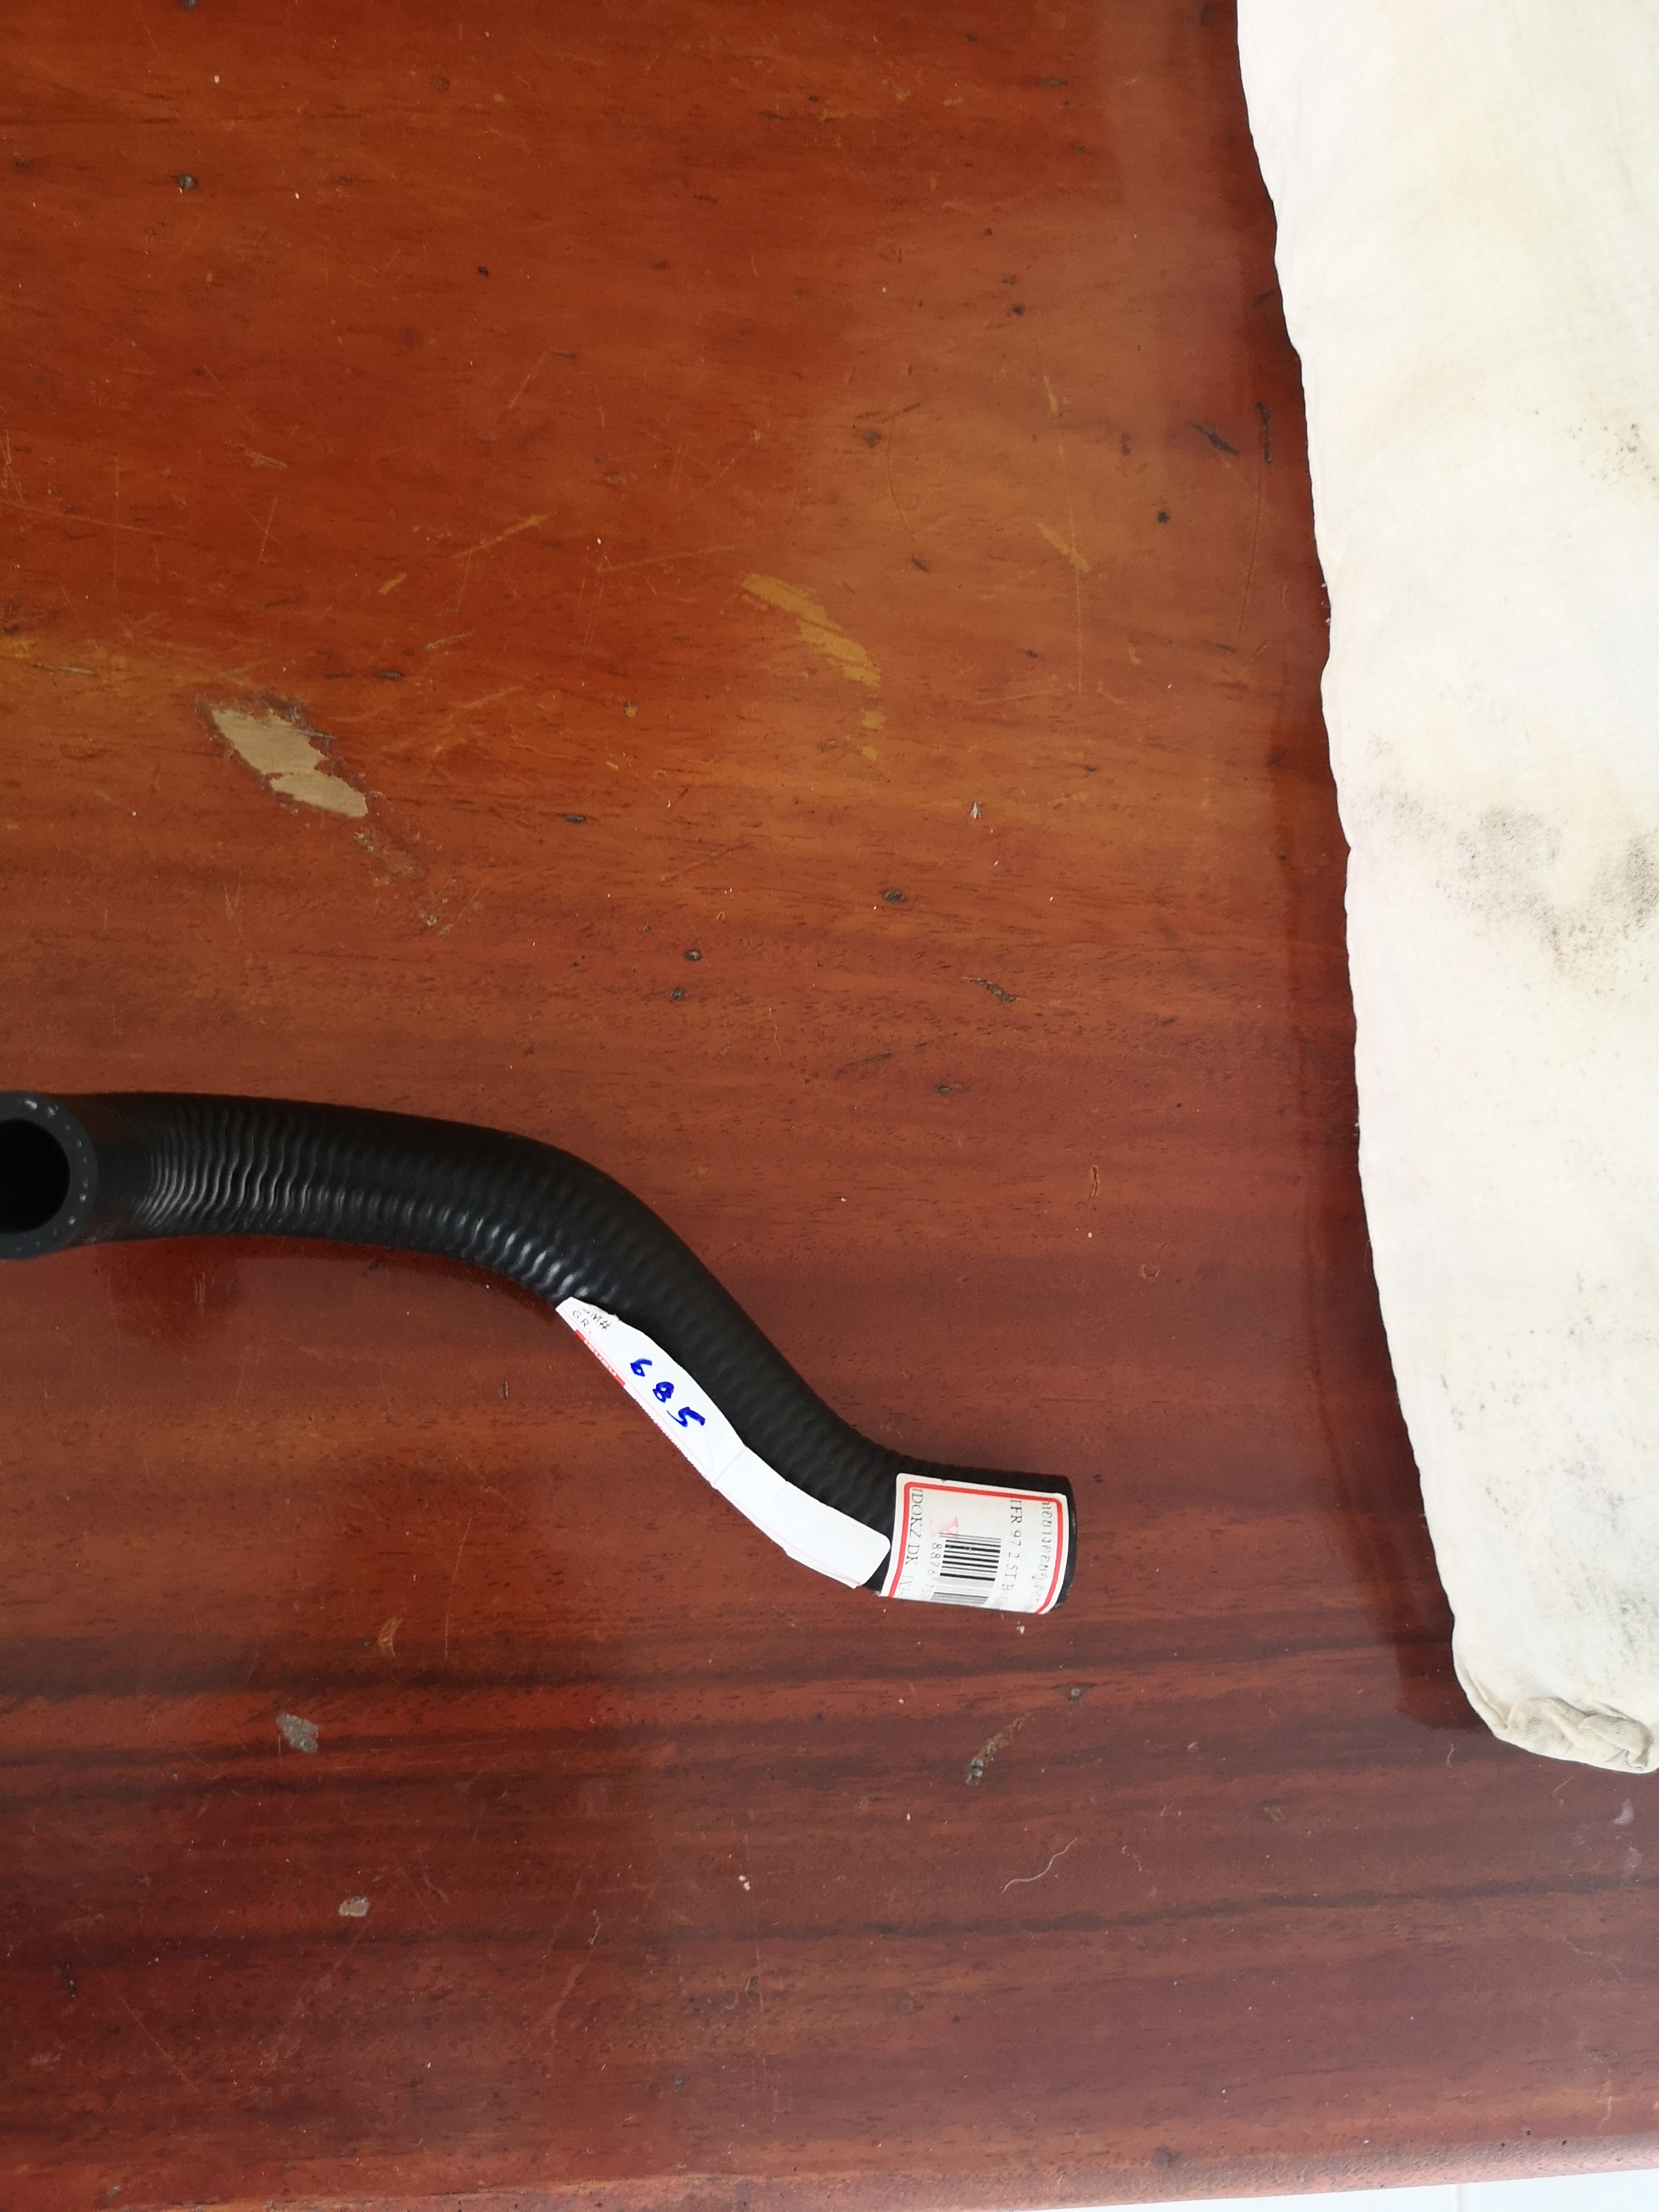ท่อยางน้ำมันเลี้ยงเทอร์โบ: (5, 1055, 1136, 1681)
